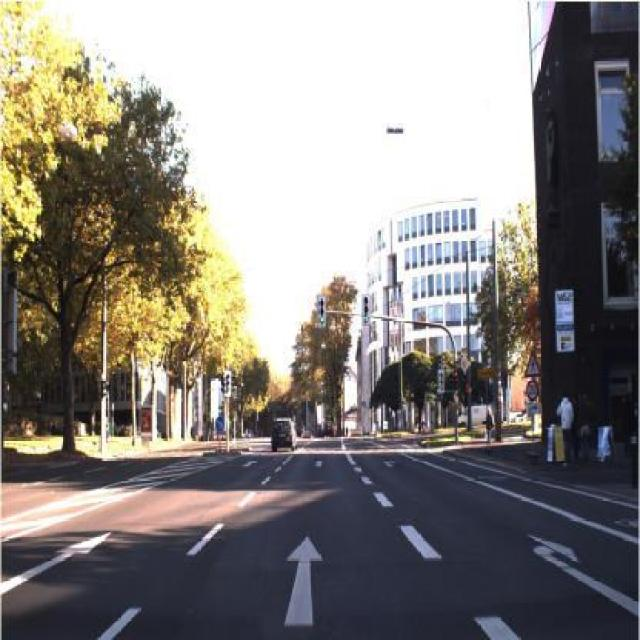Ograniczenie predkosci do 20: (525, 378, 541, 400)
